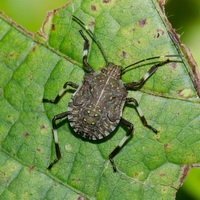insect: (42, 15, 182, 171)
